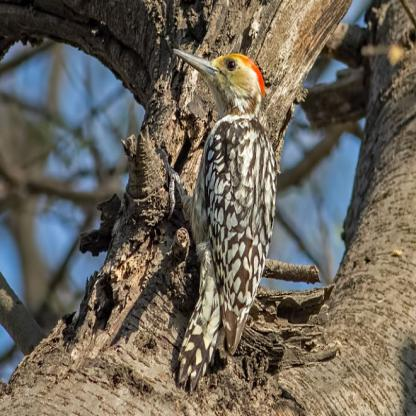Burung: (159, 47, 275, 395)
